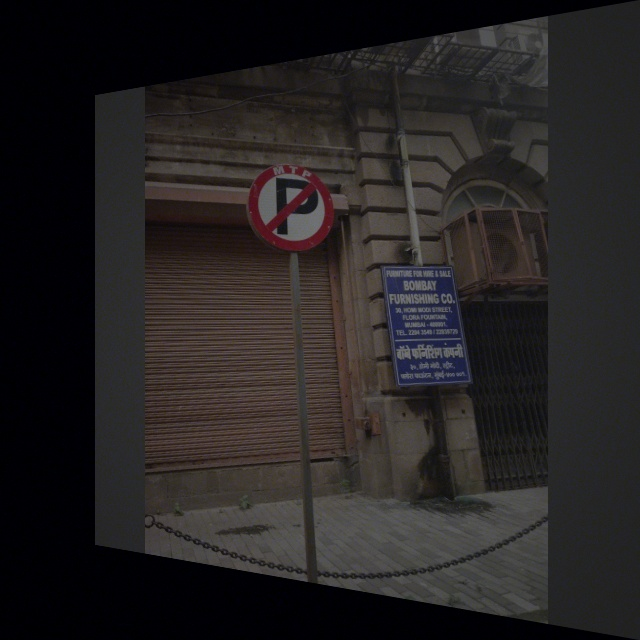No_Parking: (247, 153, 337, 255)
